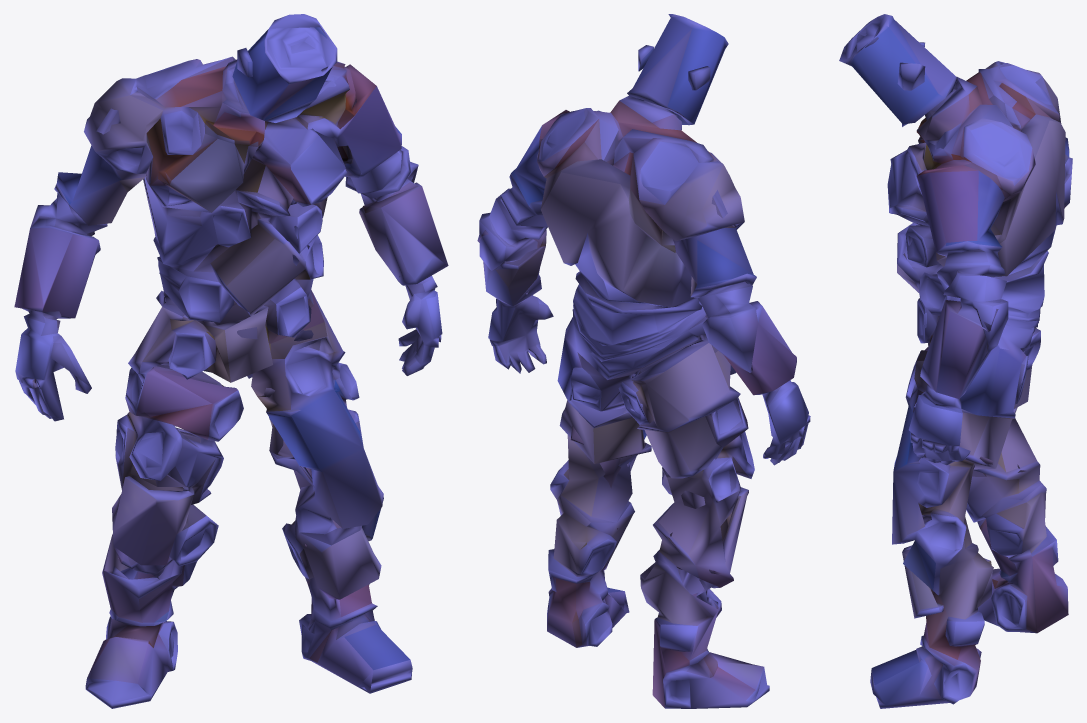
Rendered from model.progressive.glb.
3 views of the same model, side by side, from view 1: azimuth 30°, elevation 25°; view 2: azimuth 150°, elevation 25°; view 3: azimuth 270°, elevation 25° (orthographic). The views are drawn at different scales.
Parts seen in each view (by area): view 1: CanMan1; view 2: CanMan1; view 3: CanMan1.
Part boxes in pixels (box(x1,y1,x2,y2)): CanMan1: box(14, 14, 448, 708); CanMan1: box(477, 14, 810, 708); CanMan1: box(839, 14, 1072, 708).
Size of the model in its own units: 1.11 by 1.9 by 0.6307.
Materials: 1 (1 with a texture image).
